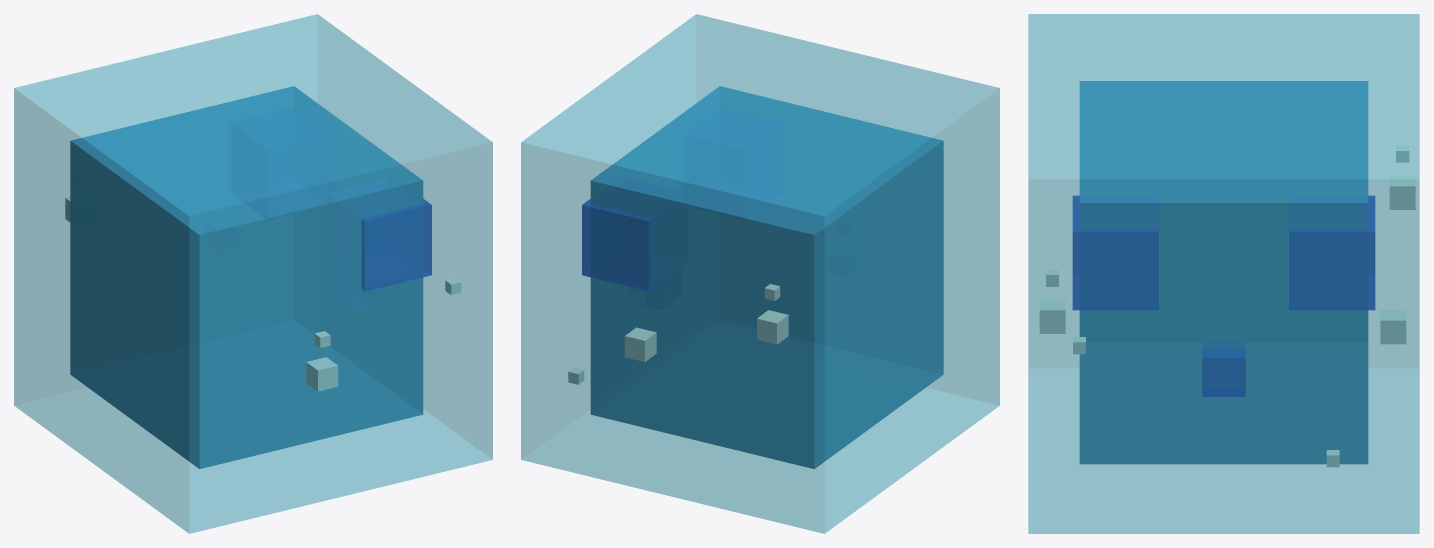
Rendered from water.fbx.
3 views of the same model, side by side, from view 1: azimuth 30°, elevation 25°; view 2: azimuth 150°, elevation 25°; view 3: azimuth 270°, elevation 25° (orthographic). The views are drawn at different scales.
Visible parts, largest first — view 1: Body; view 2: Body; view 3: Body.
Part boxes in pixels (x1,y1,x2,y2): Body: [14, 14, 492, 533]; Body: [521, 14, 999, 533]; Body: [1028, 14, 1419, 533].
Size of the model in its own units: 300 by 300 by 300.
